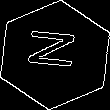N_E: (25, 33, 85, 77)
